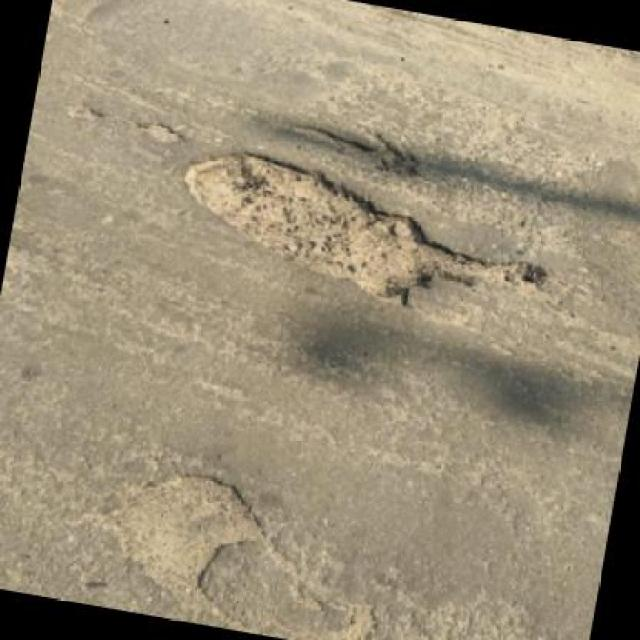pothole1: (162, 135, 563, 333), (102, 459, 275, 623), (279, 112, 427, 182), (133, 114, 184, 146)
